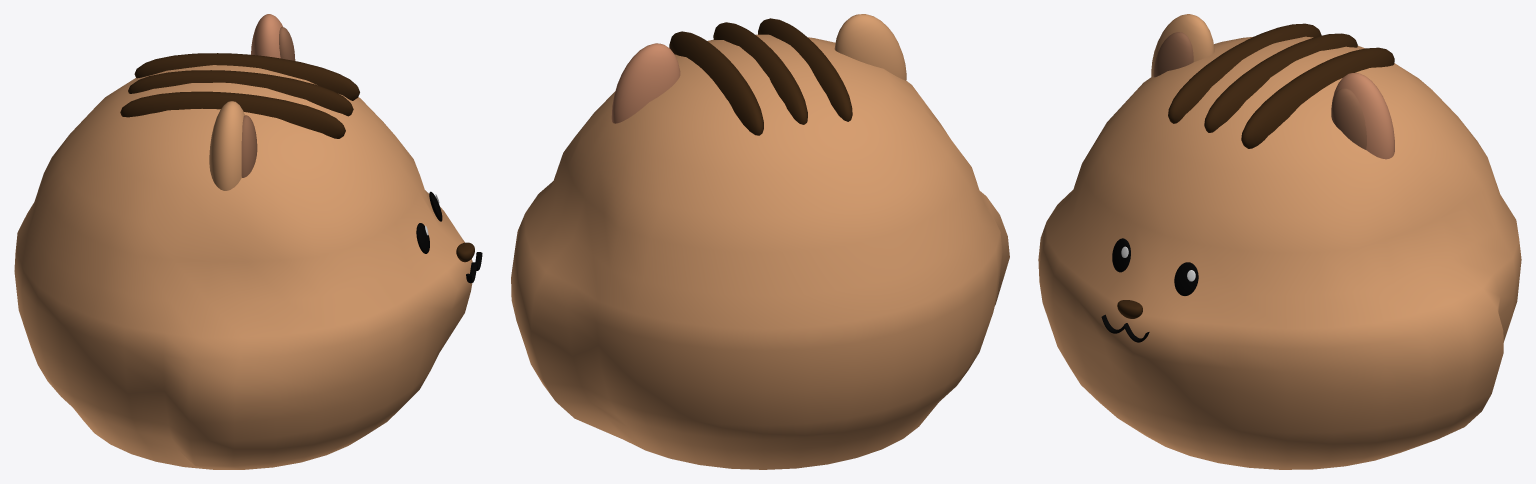
File: tori.gltf
3 renders of one model, left to right at view 1: azimuth 30°, elevation 25°; view 2: azimuth 150°, elevation 25°; view 3: azimuth 270°, elevation 25°, orthographic. The views are drawn at different scales.
Parts seen in each view (by area): view 1: Sphere; view 2: Sphere; view 3: Sphere.
Part boxes in pixels (box(x1,y1,x2,y2)): Sphere: box(14, 14, 474, 469); Sphere: box(511, 14, 1009, 469); Sphere: box(1038, 14, 1521, 469).
Bounding box in the file's own units: 2.02 × 1.85 × 2.05.
